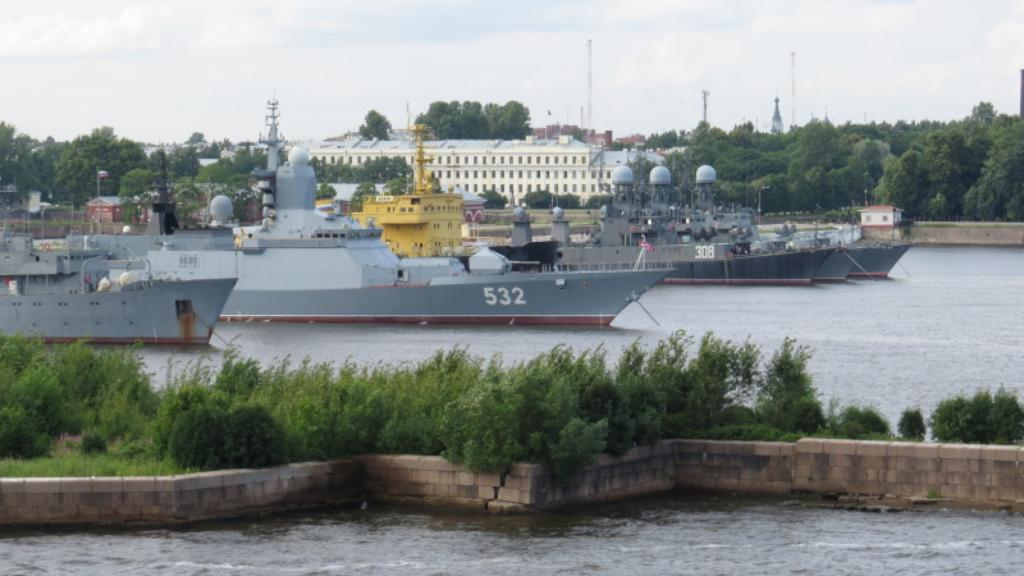Warship: (160, 88, 676, 330), (518, 155, 836, 285), (0, 212, 240, 346)
